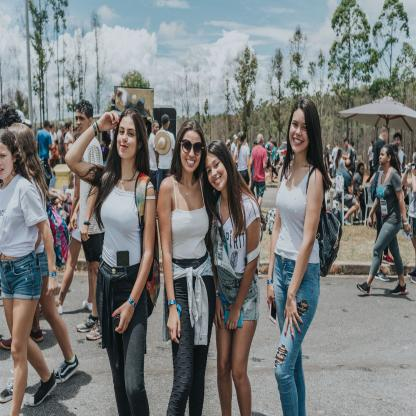dress: (164, 275, 216, 416), (102, 270, 151, 416), (207, 194, 258, 272), (0, 176, 45, 259), (75, 135, 103, 232), (371, 210, 406, 280), (375, 168, 402, 213), (156, 128, 174, 169), (250, 143, 268, 181), (36, 130, 56, 160), (147, 133, 157, 173), (339, 166, 352, 195), (236, 144, 250, 170), (408, 173, 416, 218), (373, 139, 383, 165), (356, 172, 364, 190)
jacket: (275, 162, 325, 264), (99, 181, 152, 272), (169, 180, 210, 262), (211, 270, 260, 322), (0, 254, 42, 307), (81, 230, 105, 266), (42, 240, 58, 275), (69, 212, 83, 244), (343, 193, 358, 210), (407, 219, 416, 242), (255, 180, 266, 198)
